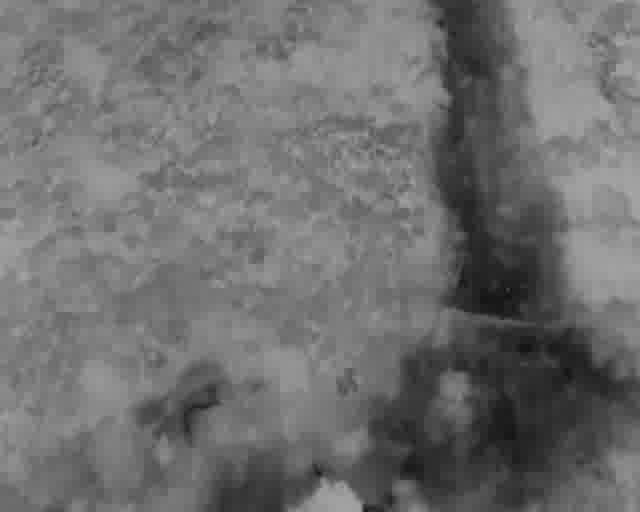car: (197, 357, 210, 372), (196, 373, 206, 388)
person: (199, 386, 204, 394), (194, 385, 197, 392), (197, 389, 200, 395)
